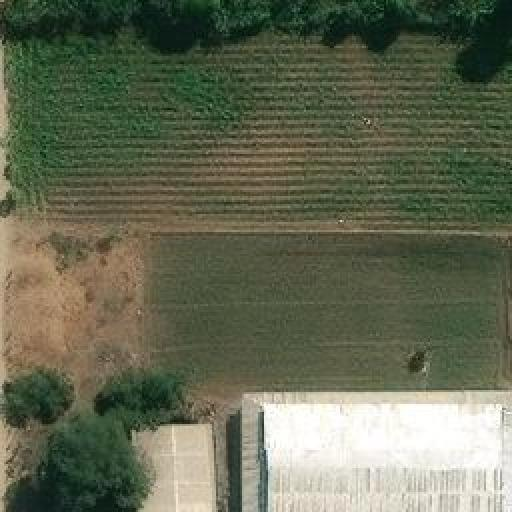manzanas: (128, 387, 510, 510)
